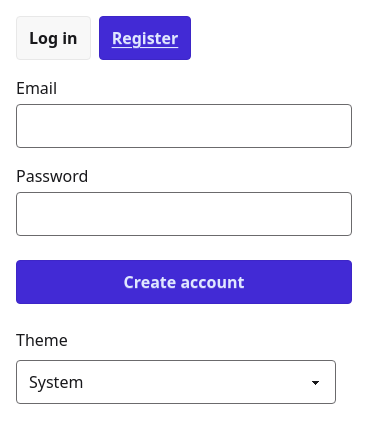
login page › starts in registration mode and switches to login
Expected: the button "Create account" is shown, [16,260,352,304]
Click the button "Log in" at (53, 38), box [16,16,91,60]
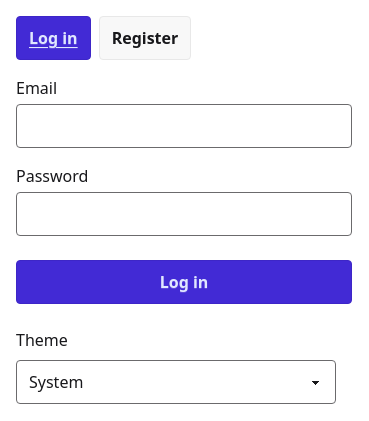
Expected: the number of buttons "Log in" is 2, [16,16,91,60]; [16,260,352,304]
Expected: the button "Create account" is gone
